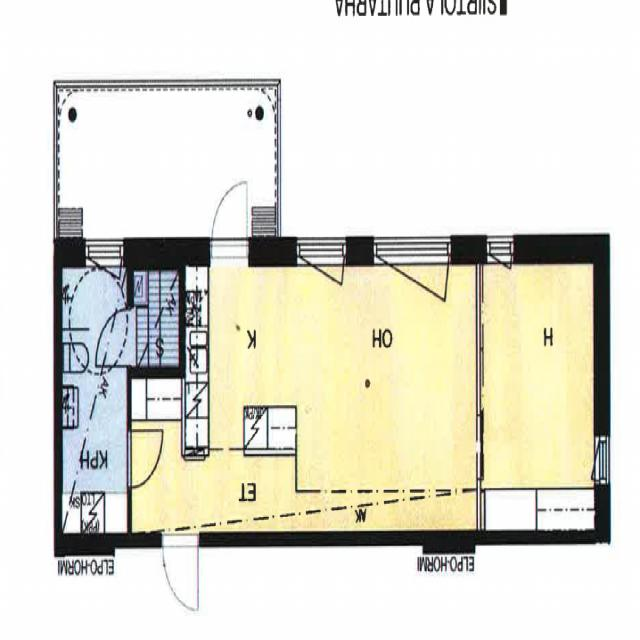door: (212, 172, 246, 263), (162, 533, 198, 610), (98, 311, 133, 364), (127, 431, 161, 485)
